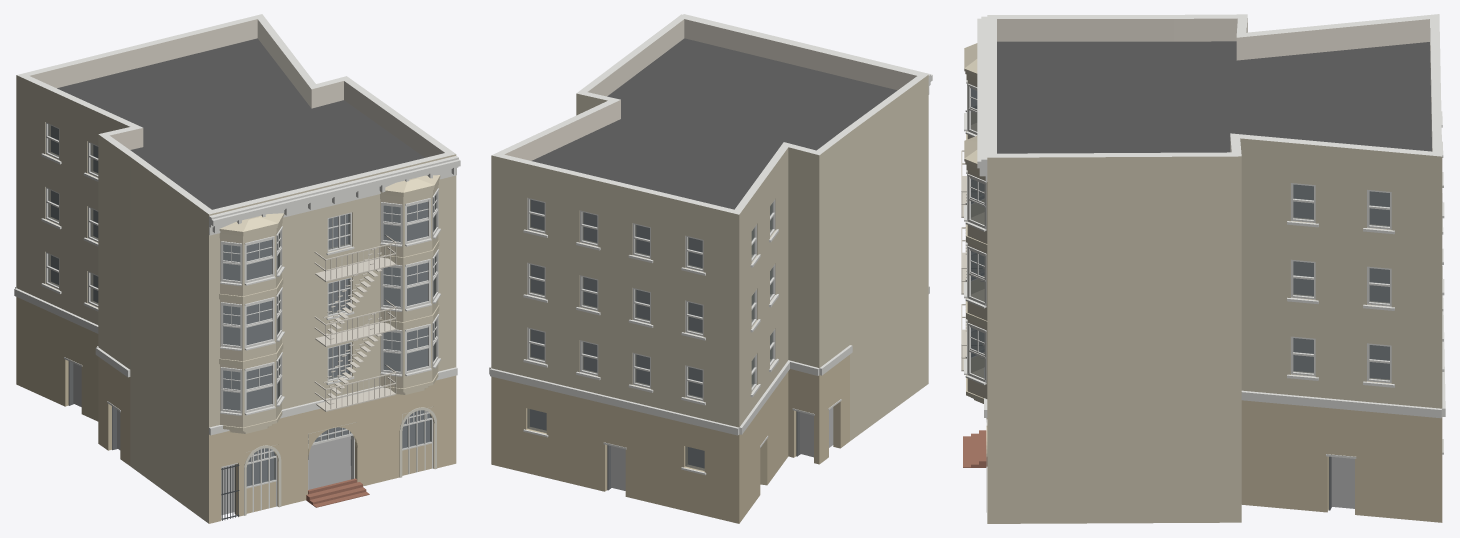
The model's file is exterior.glb.
3 views of the same model, side by side, from view 1: azimuth 30°, elevation 25°; view 2: azimuth 150°, elevation 25°; view 3: azimuth 270°, elevation 25° (orthographic). The views are drawn at different scales.
Parts seen in each view (by area): view 1: shell, roof, bay-glazing-hyb, shadow-proxy, bay-windows-hyb, trim, fire-escape, glazing, storefront, frames, hyC-arches-1; view 2: shell, roof, glazing, shadow-proxy, trim, frames, storefront; view 3: shell, roof, trim, shadow-proxy, bay-glazing-hyb, glazing, bay-windows-hyb, frames, fire-escape, hyC-arches-1.
Part boxes in pixels (box(x1,y1,x2,y2)): shell: box(16, 14, 456, 523); roof: box(57, 38, 424, 209); bay-glazing-hyb: box(220, 188, 440, 415); shadow-proxy: box(51, 126, 429, 514); bay-windows-hyb: box(219, 175, 440, 433); trim: box(14, 153, 460, 435); fire-escape: box(314, 234, 396, 411); glazing: box(48, 124, 431, 486); storefront: box(64, 357, 433, 520); frames: box(45, 122, 351, 381); hyC-arches-1: box(244, 406, 436, 515); shell: box(491, 14, 928, 523); roof: box(532, 38, 897, 209); glazing: box(527, 199, 772, 470); shadow-proxy: box(530, 200, 833, 490); trim: box(489, 14, 932, 475); frames: box(527, 198, 775, 401); storefront: box(603, 399, 841, 490); shell: box(987, 14, 1442, 523); roof: box(997, 41, 1431, 153); trim: box(977, 16, 1445, 454); shadow-proxy: box(1293, 185, 1389, 508); bay-glazing-hyb: box(964, 74, 986, 384); glazing: box(1293, 184, 1389, 380); bay-windows-hyb: box(964, 43, 987, 403); frames: box(1291, 183, 1391, 383); fire-escape: box(961, 150, 984, 371); hyC-arches-1: box(963, 418, 987, 512).
Size of the model in its own units: 12.19 by 14.31 by 17.15.
